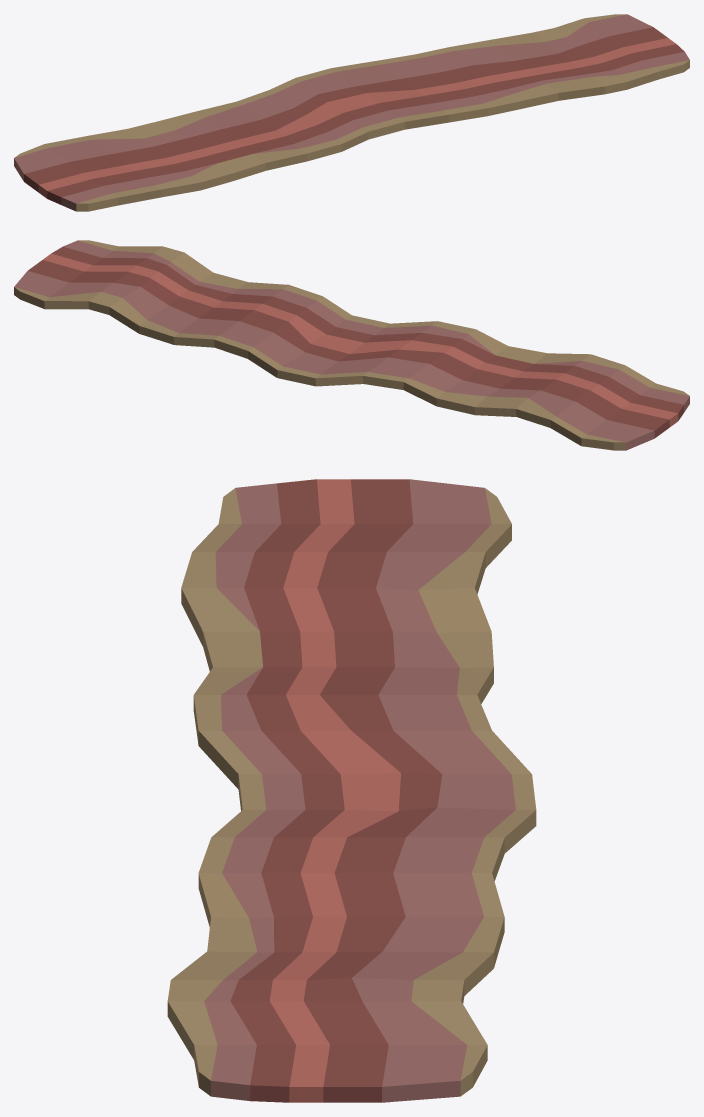
Rendered from Bacon_Uncooked.glb.
3 renders of one model, top to bottom at view 1: azimuth 30°, elevation 25°; view 2: azimuth 150°, elevation 25°; view 3: azimuth 270°, elevation 25°, orthographic. The views are drawn at different scales.
Visible parts, largest first — view 1: Meat1, Meat2, LightYellow, Meat3; view 2: Meat1, Meat2, LightYellow, Meat3; view 3: Meat1, Meat2, LightYellow, Meat3.
Part boxes in pixels (x1,y1,x2,y2): Meat1: (14, 14, 689, 211); Meat2: (24, 27, 684, 204); LightYellow: (14, 14, 689, 211); Meat3: (38, 38, 675, 198); Meat1: (14, 240, 689, 450); Meat2: (28, 246, 683, 438); LightYellow: (14, 240, 689, 450); Meat3: (43, 253, 678, 427); Meat1: (204, 479, 515, 1102); Meat2: (230, 479, 442, 1102); LightYellow: (167, 488, 536, 1096); Meat3: (269, 479, 400, 1102).
Size of the model in its own units: 1.16 by 0.0213 by 0.2968.
